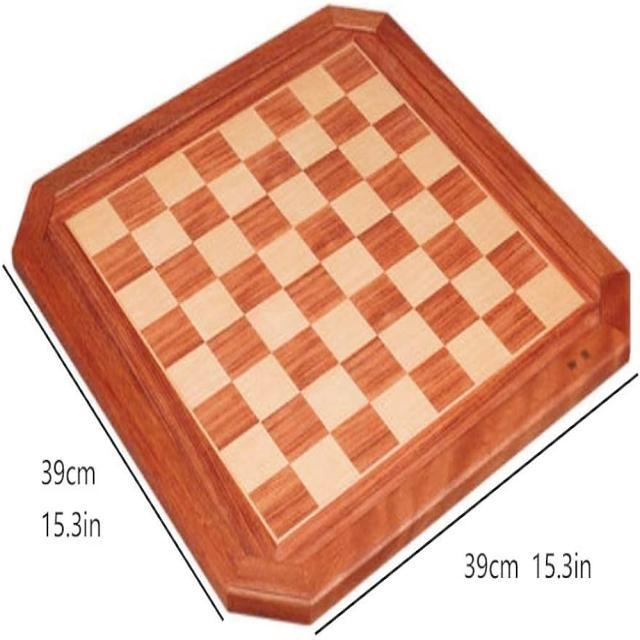chess-table-corners: (566, 278, 599, 325), (263, 516, 298, 560), (56, 202, 84, 240), (336, 31, 366, 66)
